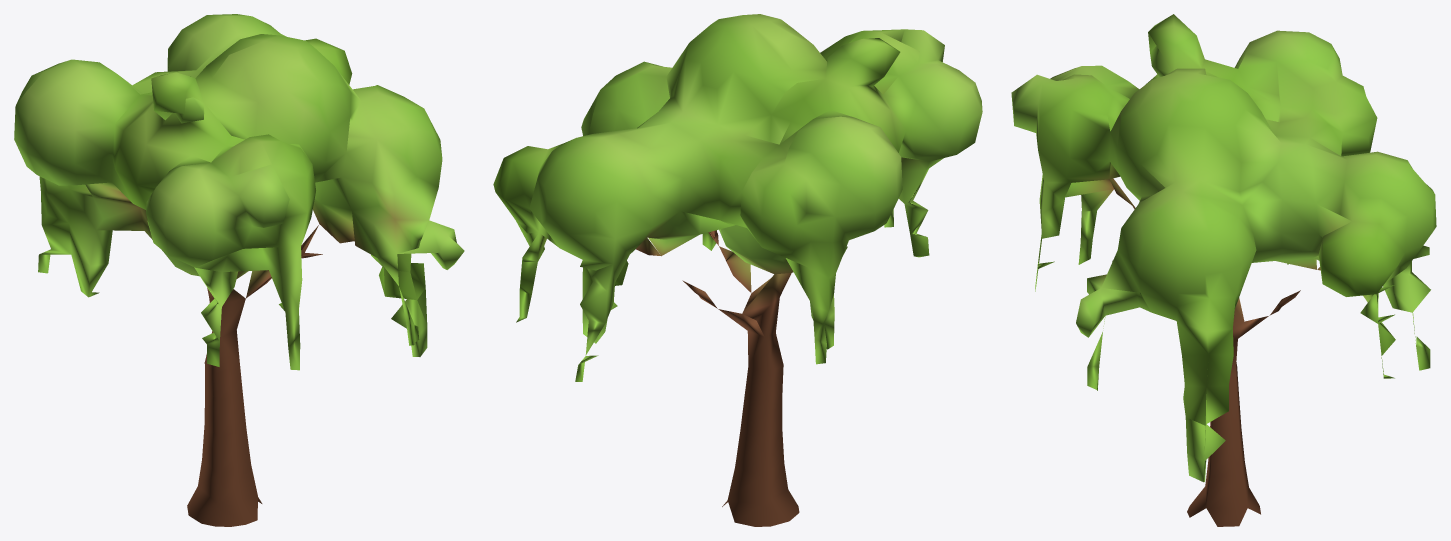
File: weeping-tree-114-lod2.obj
3 renders of one model, left to right at view 1: azimuth 30°, elevation 25°; view 2: azimuth 150°, elevation 25°; view 3: azimuth 270°, elevation 25°, orthographic. The views are drawn at different scales.
Visible parts, largest first — view 1: simplified; view 2: simplified; view 3: simplified.
Boxes of the visible parts, left/top/right/bottom form: simplified: left=14, top=14, right=464, bottom=526; simplified: left=493, top=14, right=982, bottom=526; simplified: left=1011, top=14, right=1436, bottom=526.
Size of the model in its own units: 289 by 365 by 312.
